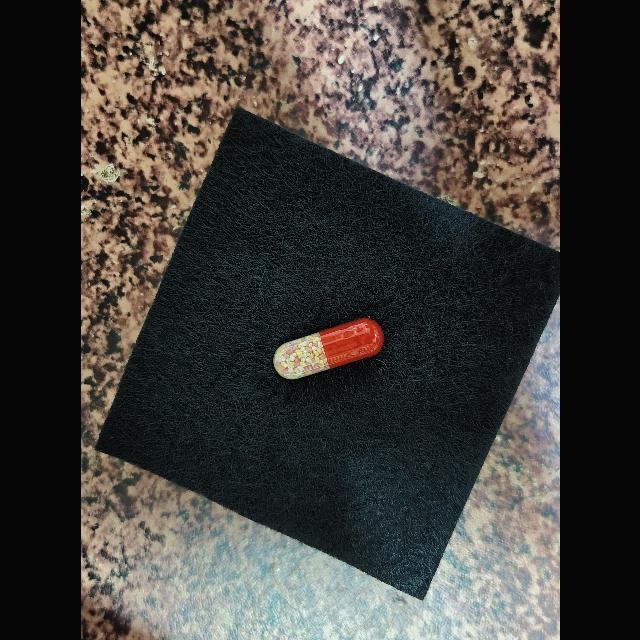Intact Capsule: (273, 318, 383, 380)
